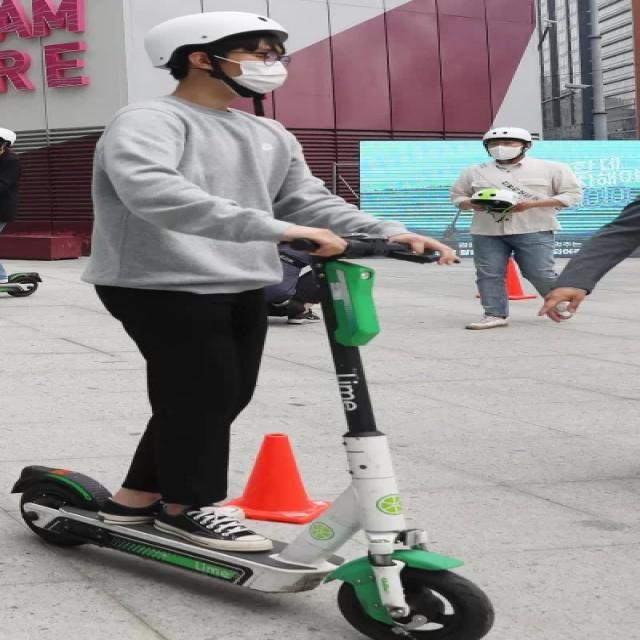helmet: (0, 2, 502, 640)
